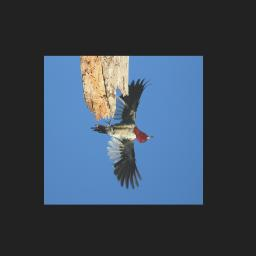Woodpecker: (90, 78, 153, 190)
